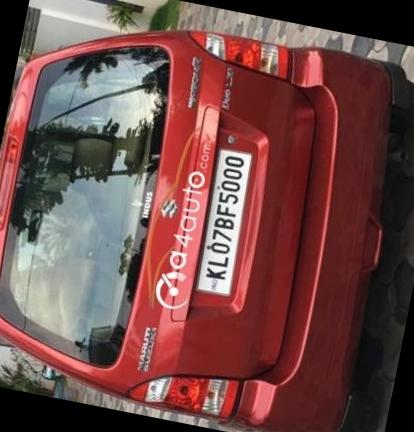plate: (183, 132, 267, 307)
